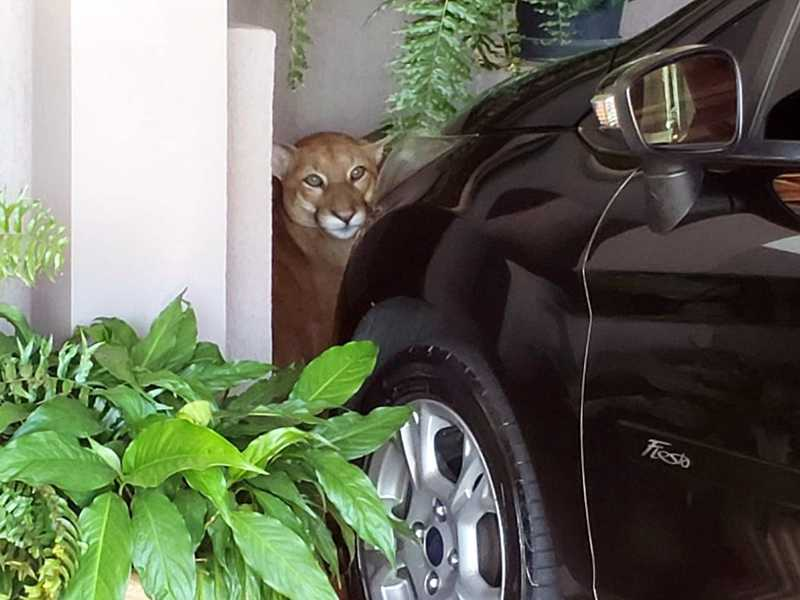OncaParda: (258, 117, 399, 338)
